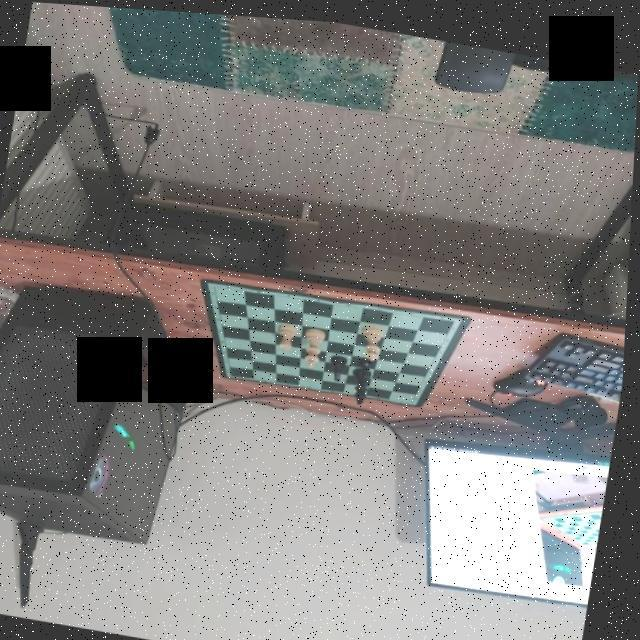chess-table-corners: (448, 308, 466, 321), (211, 279, 226, 289), (409, 392, 421, 402), (228, 366, 240, 376)
